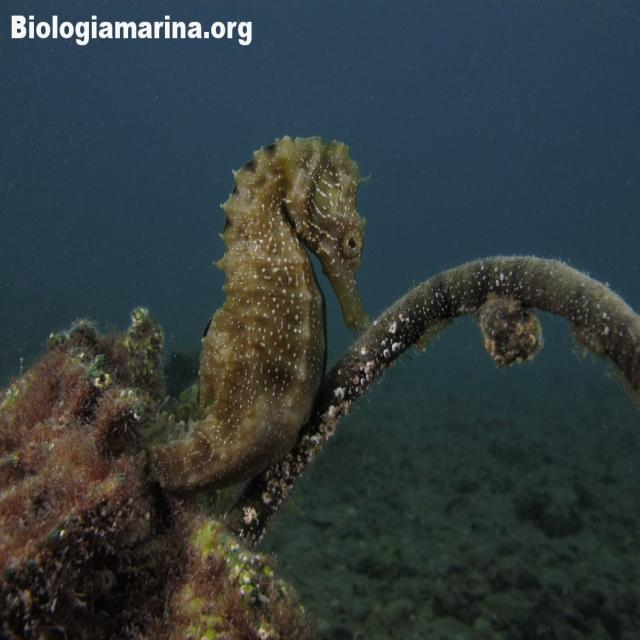Guttu: (288, 133, 378, 342)
